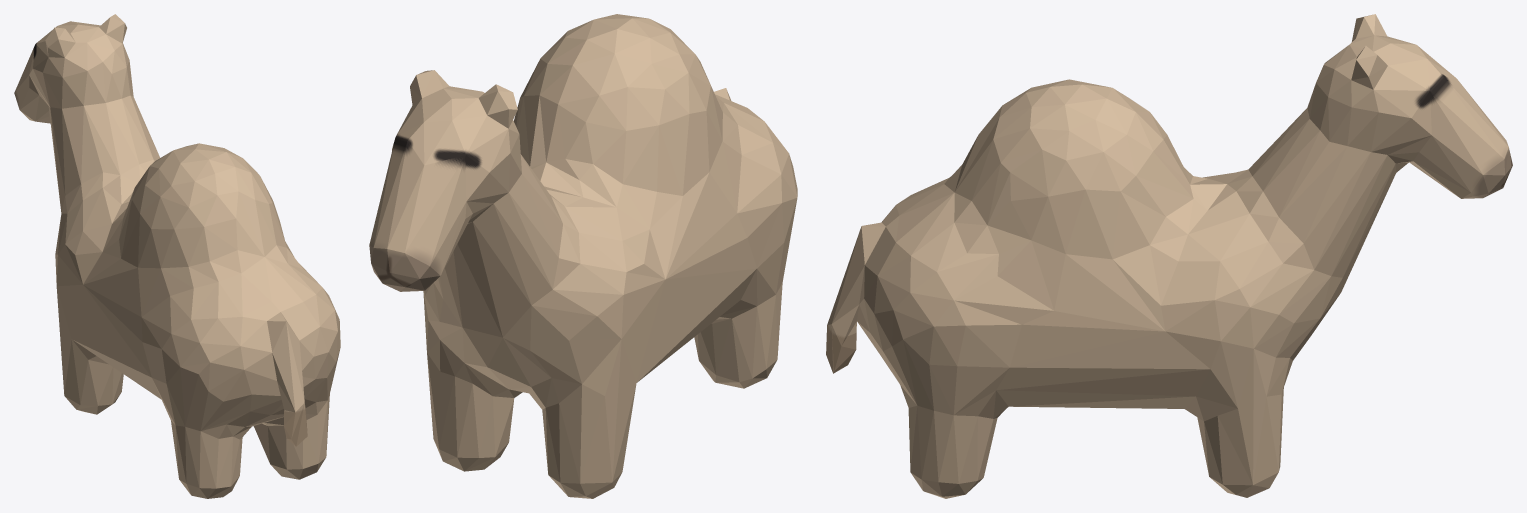
File: animal_dromedary_blob.obj
3 renders of one model, left to right at view 1: azimuth 30°, elevation 25°; view 2: azimuth 150°, elevation 25°; view 3: azimuth 270°, elevation 25°, orthographic. The views are drawn at different scales.
Parts seen in each view (by area): view 1: animal_dromedary_blob; view 2: animal_dromedary_blob; view 3: animal_dromedary_blob.
Boxes of the visible parts, x1,y1,x2,y2 form: animal_dromedary_blob: (14, 14, 340, 498); animal_dromedary_blob: (369, 14, 797, 498); animal_dromedary_blob: (826, 14, 1512, 498).
Bounding box in the file's own units: 0.7118 × 1.39 × 1.99.
